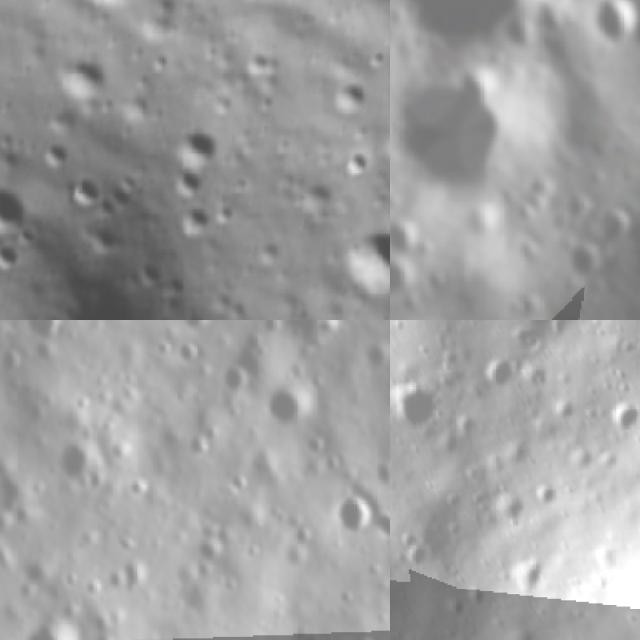crater: (410, 71, 534, 195), (29, 244, 184, 320), (320, 214, 390, 320), (402, 0, 531, 49), (46, 44, 124, 118), (158, 108, 229, 182), (316, 70, 378, 129), (51, 433, 110, 493), (260, 376, 317, 430), (26, 128, 80, 181), (0, 172, 35, 248), (59, 168, 108, 221), (390, 385, 443, 434), (47, 0, 146, 25), (331, 491, 378, 543), (169, 198, 216, 246), (162, 159, 208, 208), (15, 610, 90, 640), (237, 43, 283, 90), (333, 142, 378, 188), (596, 0, 636, 50), (188, 524, 230, 570), (562, 242, 610, 278), (510, 560, 549, 602), (356, 330, 390, 376), (216, 358, 251, 400), (21, 320, 73, 347), (0, 234, 29, 280), (494, 490, 530, 526), (608, 401, 640, 441), (390, 215, 413, 264), (485, 357, 516, 393), (597, 212, 631, 243), (174, 336, 203, 372), (370, 499, 390, 548), (534, 484, 564, 514), (407, 548, 434, 573), (176, 320, 215, 337), (390, 263, 406, 296), (343, 631, 382, 640)
